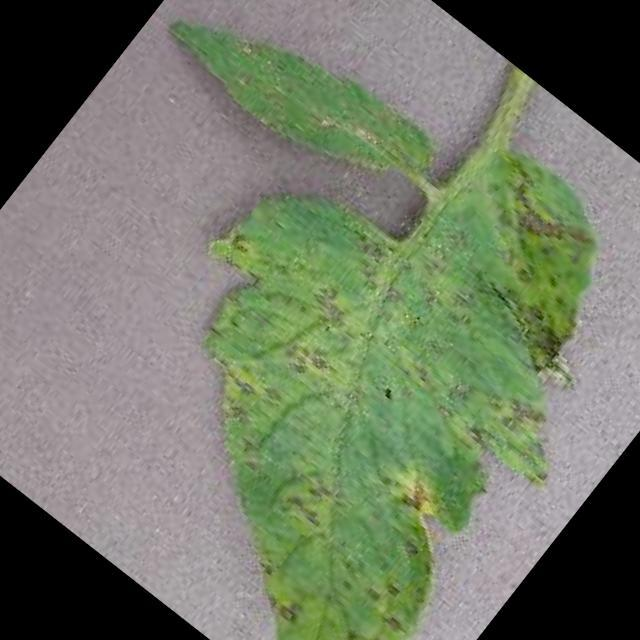Tomato Septoria spot leaf: (18, 32, 640, 640)
